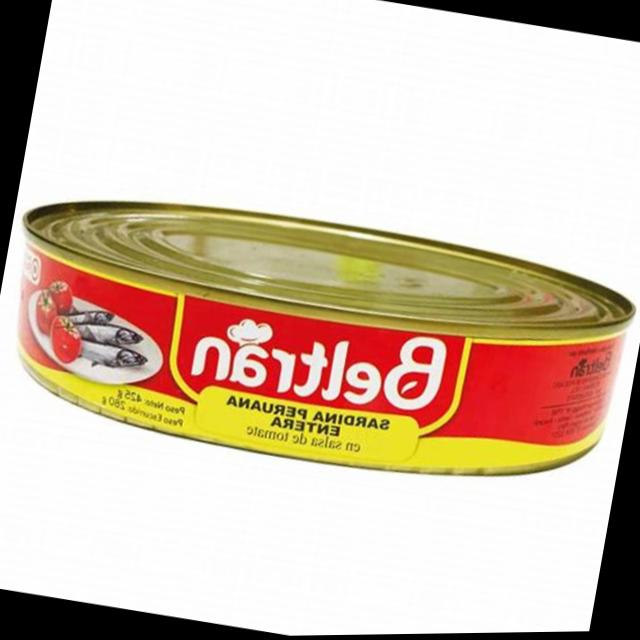Lata: (0, 152, 640, 529)
